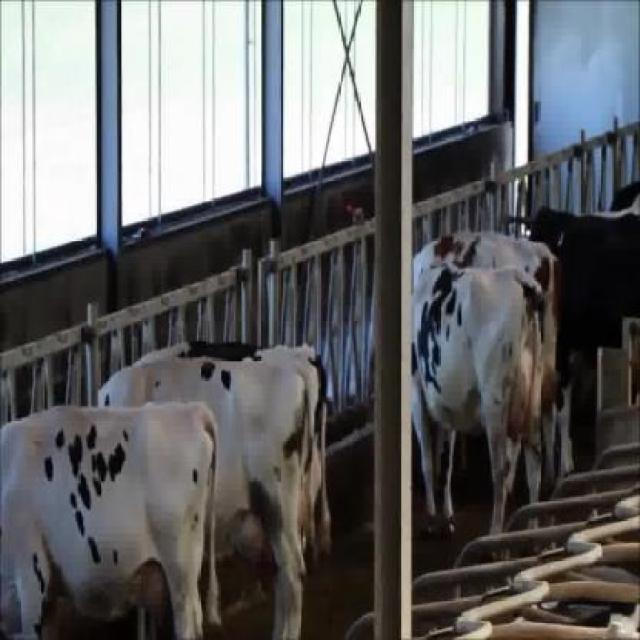Cow: (97, 354, 318, 638), (0, 398, 223, 638), (412, 260, 551, 560)
